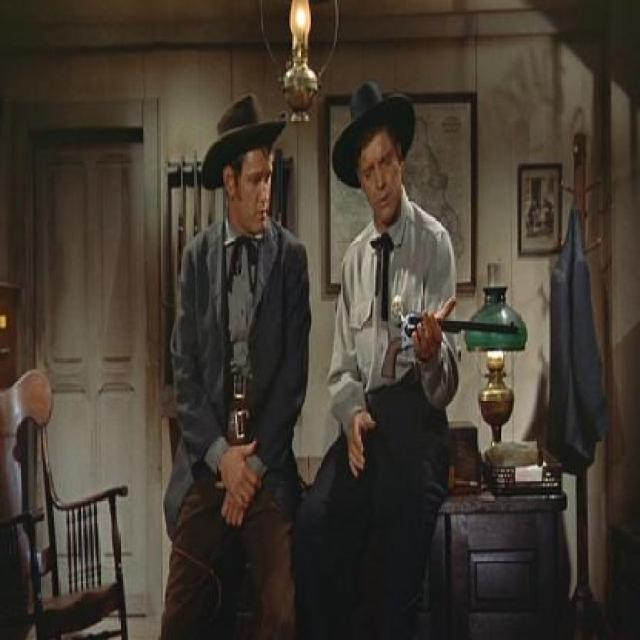guns: (378, 303, 536, 389)
